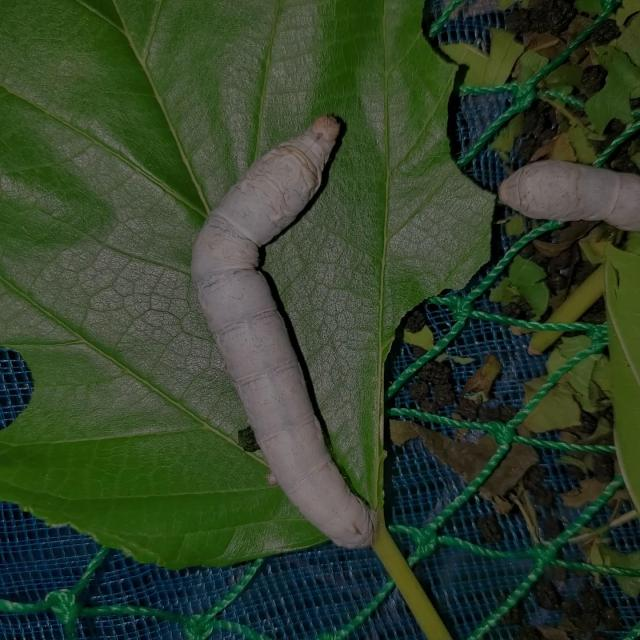Healthy: (180, 102, 388, 552)
